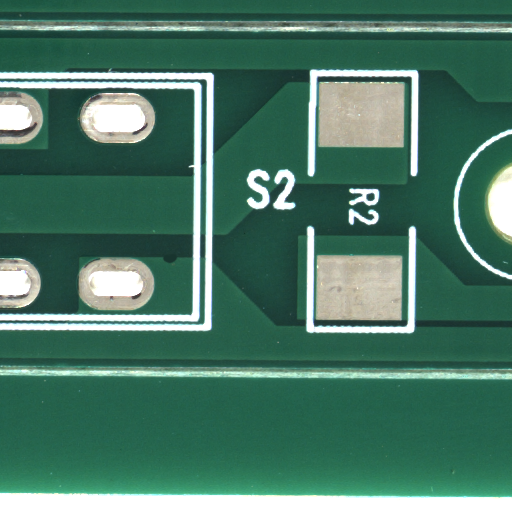Mouse_bite: (169, 258, 184, 267)
